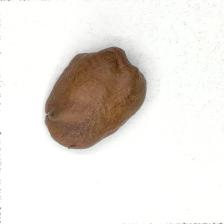NG: (79, 45, 147, 87)
